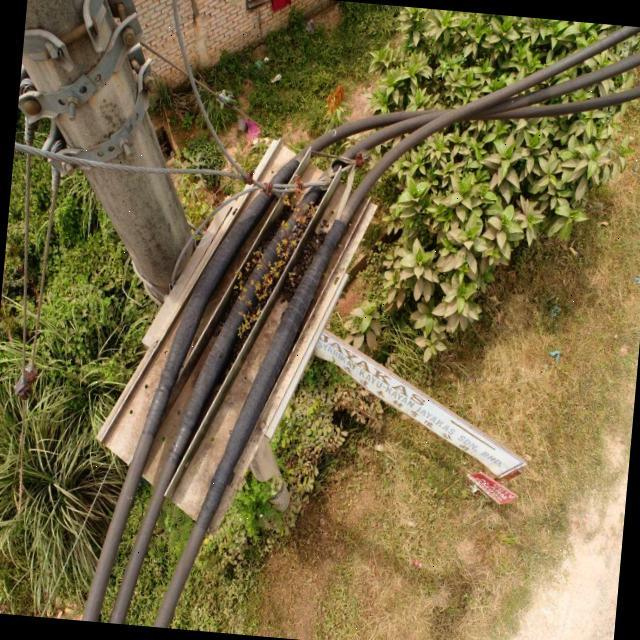critical vegetation: (220, 182, 324, 347)
